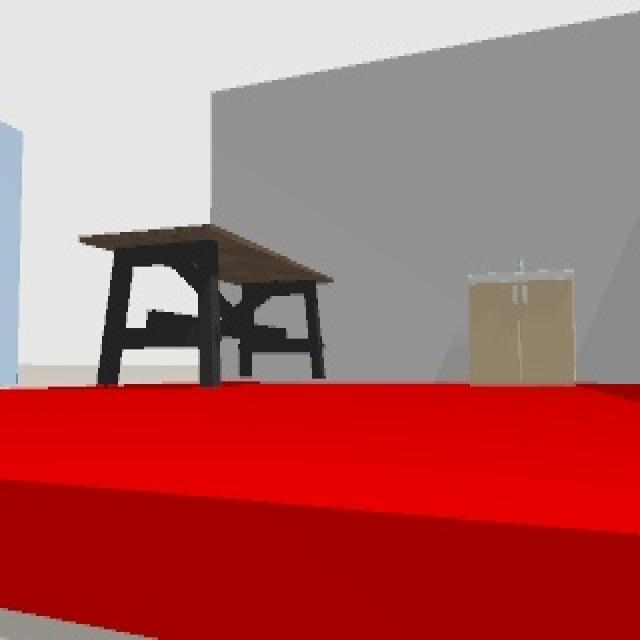dining: (79, 225, 330, 386)
